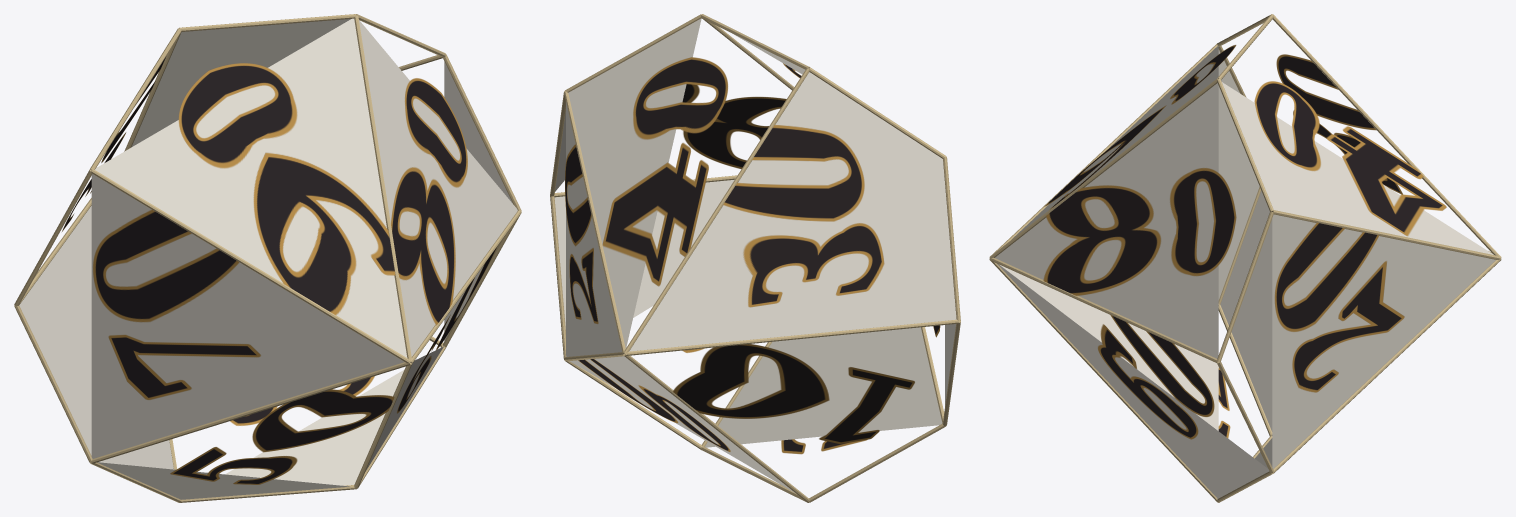
3 renders of one model, left to right at view 1: azimuth 30°, elevation 25°; view 2: azimuth 150°, elevation 25°; view 3: azimuth 270°, elevation 25°, orthographic. The views are drawn at different scales.
Parts seen in each view (by area): view 1: DiceBody, FaceLabel_7_90, GoldEdgeTrim, FaceLabel_5_70, FaceLabel_8_80, FaceLabel_3_50, FaceLabel_0_60, FaceLabel_6_30, FaceLabel_1_00; view 2: DiceBody, GoldEdgeTrim, FaceLabel_6_30, FaceLabel_9_40, FaceLabel_2_10, FaceLabel_8_80, FaceLabel_4_20, FaceLabel_1_00, FaceLabel_3_50; view 3: DiceBody, FaceLabel_8_80, GoldEdgeTrim, FaceLabel_4_20, FaceLabel_9_40, FaceLabel_0_60, FaceLabel_6_30, FaceLabel_7_90.
Part boxes in pixels (x1,y1,x2,y2): DiceBody: (19, 18, 517, 499); FaceLabel_7_90: (178, 63, 395, 314); GoldEdgeTrim: (14, 14, 521, 502); FaceLabel_5_70: (93, 209, 260, 399); FaceLabel_8_80: (391, 78, 467, 325); FaceLabel_3_50: (170, 389, 394, 484); FaceLabel_0_60: (397, 246, 497, 413); FaceLabel_6_30: (62, 57, 165, 231); FaceLabel_1_00: (230, 376, 374, 425); DiceBody: (554, 18, 956, 492); GoldEdgeTrim: (550, 14, 960, 502); FaceLabel_6_30: (723, 125, 884, 307); FaceLabel_9_40: (602, 57, 727, 286); FaceLabel_2_10: (673, 344, 914, 443); FaceLabel_8_80: (682, 84, 786, 168); FaceLabel_4_20: (565, 144, 598, 323); FaceLabel_1_00: (578, 359, 730, 451); FaceLabel_3_50: (781, 439, 867, 454); DiceBody: (995, 45, 1495, 498); FaceLabel_8_80: (1043, 168, 1236, 295); GoldEdgeTrim: (989, 14, 1501, 502); FaceLabel_4_20: (1274, 222, 1404, 392); FaceLabel_9_40: (1254, 81, 1446, 236); FaceLabel_0_60: (1098, 315, 1214, 439); FaceLabel_6_30: (1276, 54, 1402, 194); FaceLabel_7_90: (1044, 45, 1236, 209).
Bounding box in the file's own units: 1.93 × 1.84 × 2.01.
10 materials, 10 textured.
